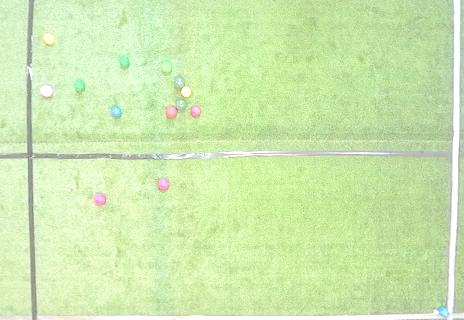blue: (111, 106, 122, 118), (439, 307, 449, 318)
green: (161, 60, 172, 73), (176, 99, 186, 110), (175, 76, 185, 87), (74, 81, 85, 91), (120, 57, 130, 67)
red: (40, 85, 53, 98), (165, 106, 177, 118), (158, 178, 169, 190), (95, 194, 106, 205), (190, 106, 201, 117)
vline: (1, 1, 39, 319), (445, 1, 463, 319)
white: (433, 309, 439, 315)
yellow: (43, 33, 55, 46), (181, 86, 191, 97)
